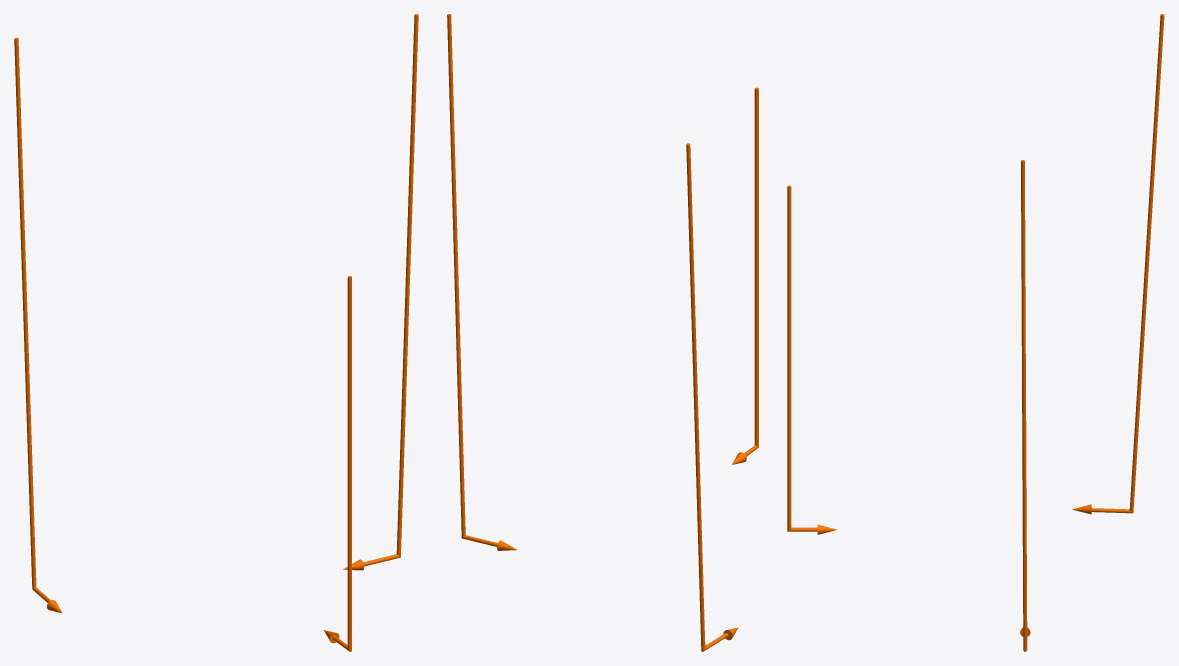
Rendered from s1arrow.glb.
3 views of the same model, side by side, from view 1: azimuth 30°, elevation 25°; view 2: azimuth 150°, elevation 25°; view 3: azimuth 270°, elevation 25° (orthographic). The views are drawn at different scales.
Visible parts, largest first — view 1: Node; view 2: Node; view 3: Node.
Boxes of the visible parts, bbox=[...] form: Node: bbox=[14, 14, 418, 651]; Node: bbox=[447, 14, 758, 651]; Node: bbox=[787, 14, 1164, 651].
Size of the model in its own units: 22.45 by 34.87 by 23.79.
